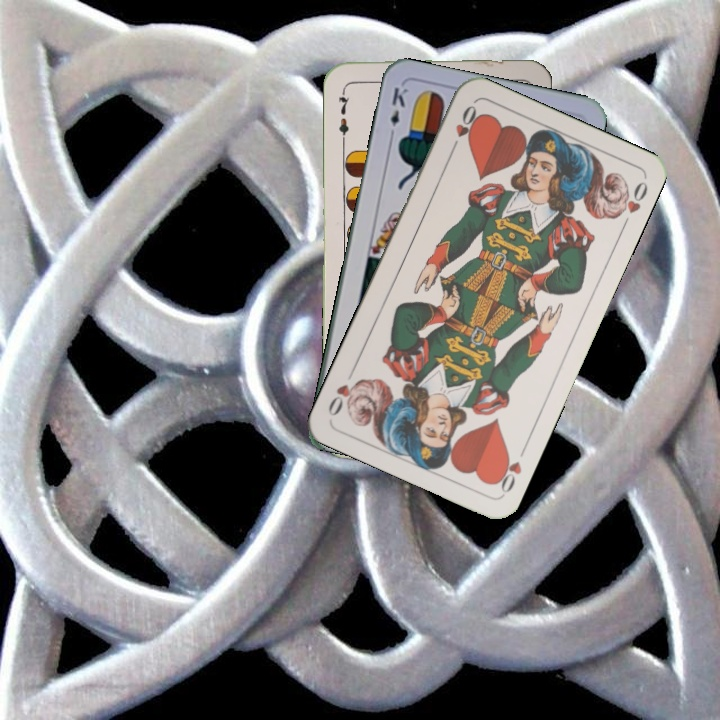E7: (334, 84, 352, 143)
EK: (386, 83, 410, 142)
HO: (490, 441, 530, 497), (447, 101, 481, 156)
